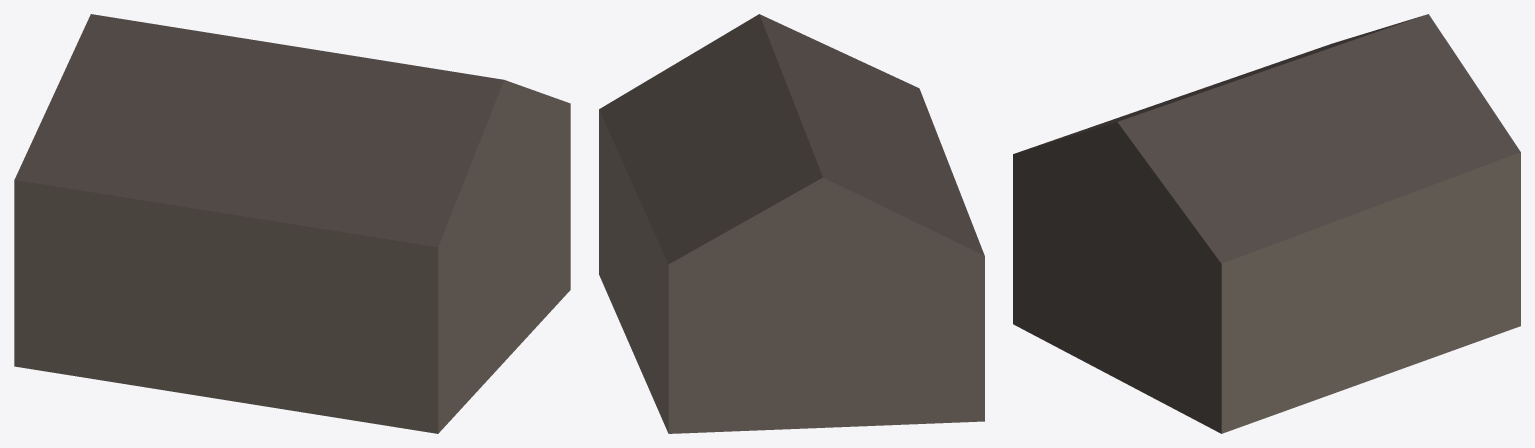
The picture shows the model from 3 angles, left to right: view 1: azimuth 30°, elevation 25°; view 2: azimuth 150°, elevation 25°; view 3: azimuth 270°, elevation 25°; orthographic projection. The views are drawn at different scales.
Visible parts, largest first — view 1: HP-w1515076934; view 2: HP-w1515076934; view 3: HP-w1515076934.
Boxes of the visible parts, <box> form: HP-w1515076934: <box>14,14,570,433</box>; HP-w1515076934: <box>599,14,984,433</box>; HP-w1515076934: <box>1013,14,1520,433</box>.
Bounding box in the file's own units: 16.67 × 9.07 × 16.23.
